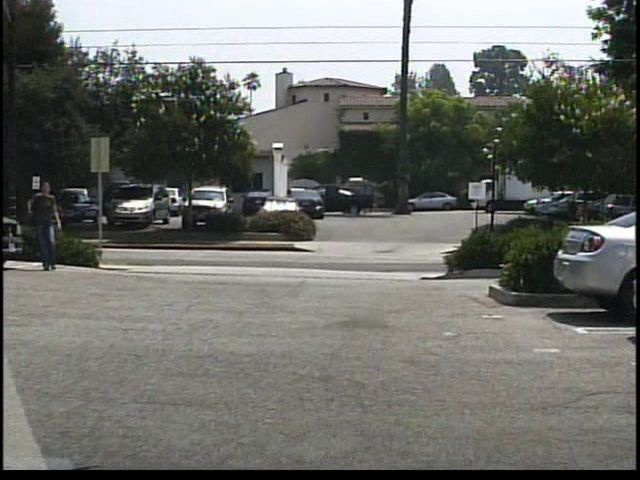person: (30, 181, 67, 273)
